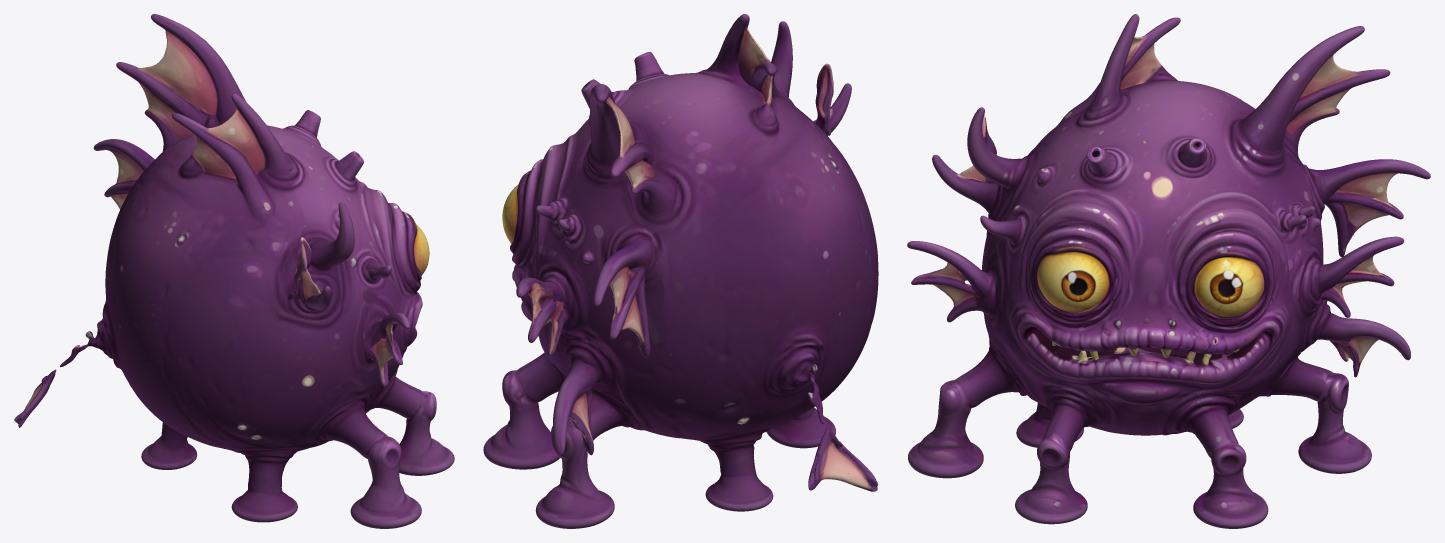
File: monster4.glb
3 views of the same model, side by side, from view 1: azimuth 30°, elevation 25°; view 2: azimuth 150°, elevation 25°; view 3: azimuth 270°, elevation 25° (orthographic). The views are drawn at different scales.
Parts seen in each view (by area): view 1: tripo_node_da6dd153-295d-41ac-b5ab-40726ebb2d8e; view 2: tripo_node_da6dd153-295d-41ac-b5ab-40726ebb2d8e; view 3: tripo_node_da6dd153-295d-41ac-b5ab-40726ebb2d8e.
Boxes of the visible parts, left/top/right/bottom form: tripo_node_da6dd153-295d-41ac-b5ab-40726ebb2d8e: left=14, top=14, right=454, bottom=528; tripo_node_da6dd153-295d-41ac-b5ab-40726ebb2d8e: left=483, top=14, right=878, bottom=528; tripo_node_da6dd153-295d-41ac-b5ab-40726ebb2d8e: left=907, top=14, right=1430, bottom=528.
Size of the model in its own units: 0.8378 by 0.9024 by 1.
Materials: 1 (1 with a texture image).
